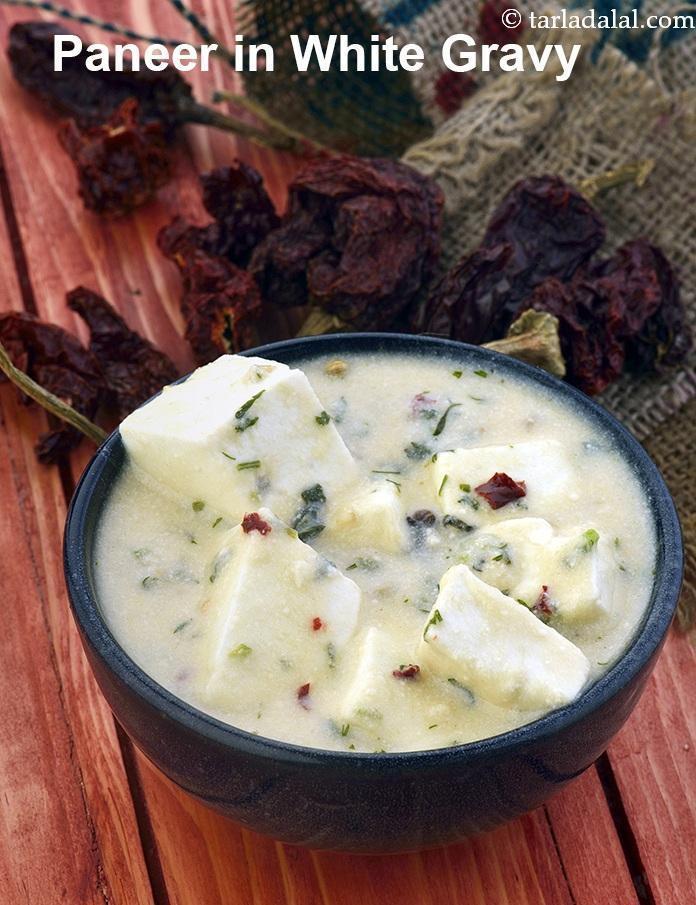paneer: (144, 428, 557, 701)
